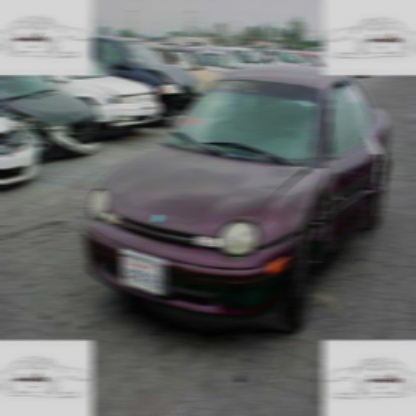Vehicle: (82, 62, 392, 332)
